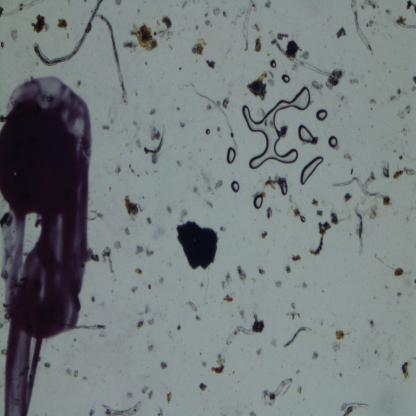Air bubble: (238, 84, 311, 167), (277, 178, 289, 196), (225, 147, 237, 165), (253, 193, 264, 210), (316, 108, 328, 122), (231, 180, 240, 193), (281, 73, 291, 83), (270, 58, 276, 69), (204, 128, 212, 136), (300, 216, 306, 223)
Background material: (131, 23, 158, 52), (309, 222, 332, 256), (246, 70, 268, 102), (196, 164, 214, 197), (28, 12, 50, 34), (324, 70, 345, 92), (124, 194, 138, 222), (191, 38, 208, 58), (401, 359, 412, 383), (127, 134, 143, 150), (396, 105, 413, 120), (235, 264, 249, 282), (91, 202, 105, 220), (219, 271, 232, 290), (252, 314, 264, 334), (128, 162, 141, 180), (122, 40, 138, 54), (381, 161, 392, 180), (334, 329, 351, 341), (285, 309, 301, 321), (265, 175, 278, 189), (55, 17, 69, 30), (161, 15, 173, 30), (210, 363, 225, 375), (254, 33, 263, 52), (365, 206, 377, 220), (329, 210, 341, 224), (186, 299, 198, 313), (65, 368, 80, 379), (335, 27, 347, 40), (10, 26, 19, 42), (404, 0, 415, 13), (391, 89, 402, 102), (342, 190, 352, 204), (135, 316, 145, 330), (205, 59, 216, 71), (134, 244, 145, 256), (312, 79, 324, 90), (265, 204, 273, 220), (146, 242, 154, 258), (222, 292, 233, 303), (165, 390, 173, 405), (273, 278, 283, 290), (198, 380, 207, 393), (222, 94, 230, 108), (146, 387, 154, 401), (393, 266, 404, 276), (190, 186, 200, 197), (214, 179, 223, 191), (404, 168, 416, 177), (270, 337, 279, 349), (238, 309, 247, 321), (400, 124, 409, 136), (292, 206, 300, 219), (134, 266, 144, 276), (254, 346, 264, 356), (174, 157, 184, 167), (213, 7, 222, 18), (260, 229, 269, 240), (113, 164, 122, 175), (158, 274, 165, 287), (124, 224, 131, 237), (343, 153, 353, 162), (102, 122, 111, 132), (112, 241, 122, 250), (301, 280, 310, 290), (125, 389, 134, 399), (291, 254, 302, 262), (144, 303, 152, 314), (368, 319, 376, 330), (311, 350, 319, 361), (180, 208, 187, 220), (141, 384, 148, 396), (398, 150, 405, 162), (285, 264, 292, 276), (178, 121, 187, 130), (206, 199, 215, 208), (315, 209, 324, 218), (151, 154, 159, 164), (158, 29, 166, 39), (349, 78, 359, 86), (368, 98, 378, 106), (156, 406, 164, 416), (146, 318, 156, 326), (384, 195, 391, 206), (131, 285, 138, 296), (312, 197, 319, 208), (194, 313, 202, 322), (160, 361, 168, 370), (264, 1, 272, 10), (75, 79, 82, 89), (148, 343, 154, 354), (204, 19, 212, 27), (44, 362, 52, 370), (146, 217, 153, 226), (222, 10, 229, 19), (258, 268, 267, 275), (150, 107, 157, 116), (166, 205, 172, 215), (291, 300, 297, 310), (297, 385, 303, 395), (176, 324, 183, 332), (396, 291, 403, 299), (90, 295, 96, 304), (114, 0, 123, 6), (411, 74, 416, 84), (202, 360, 207, 369), (0, 40, 5, 48), (339, 370, 344, 377), (148, 284, 152, 292)
Cellulose filter fibre: (32, 1, 104, 71), (189, 84, 239, 153), (96, 14, 129, 105), (269, 30, 332, 77), (216, 312, 258, 362), (332, 171, 385, 200), (352, 0, 375, 56), (261, 377, 294, 408), (0, 1, 46, 19), (102, 397, 143, 415), (144, 125, 167, 155), (353, 207, 366, 258), (240, 1, 253, 52), (282, 326, 312, 348), (300, 157, 324, 184), (99, 246, 115, 276), (339, 402, 371, 415), (397, 14, 416, 32), (298, 124, 314, 145), (76, 323, 106, 332), (393, 168, 404, 180), (328, 137, 338, 148)
Fragment: (175, 220, 218, 270)
Pen: (0, 75, 89, 414)
